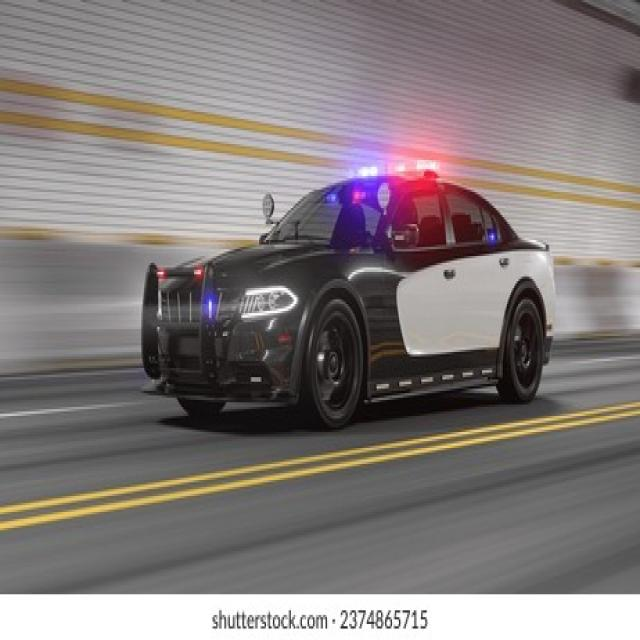cop: (135, 158, 559, 435)
